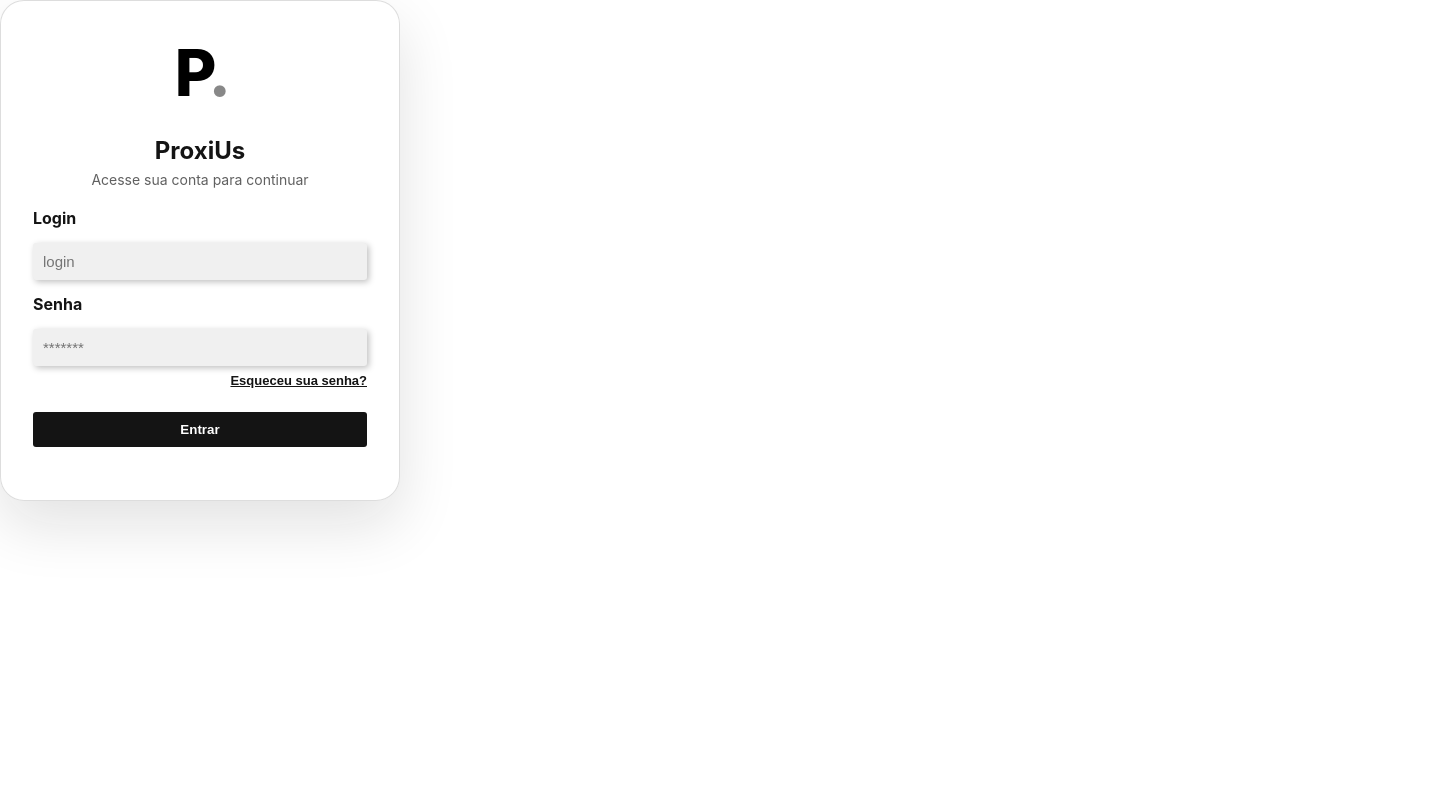
Scenario: allows login without reCAPTCHA on a.localhost
Type "usuario" into the field with placeholder "login".
click(200, 261); type("usuario")  # box [33,243,367,280]
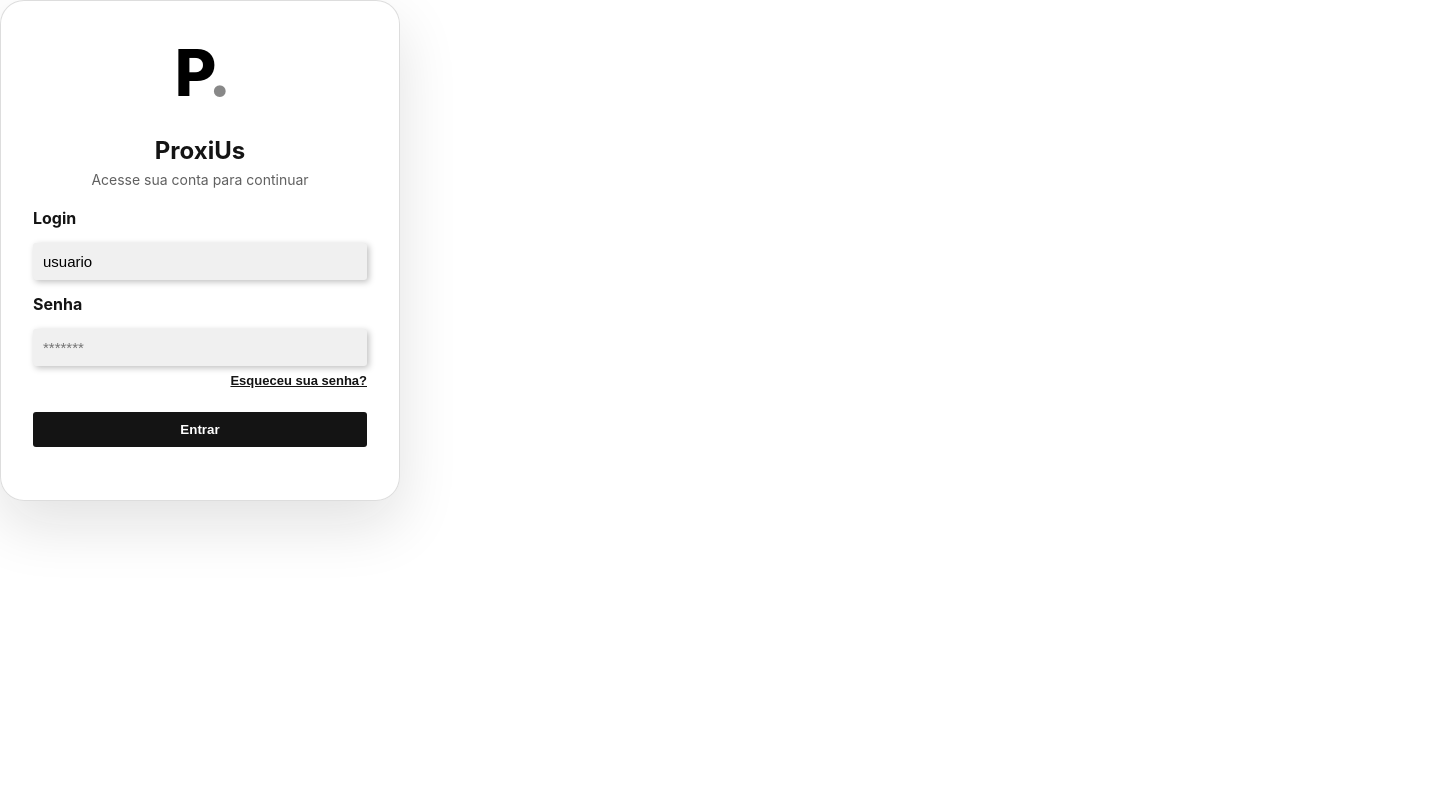
Type "senha" into the password field with placeholder "*******".
click(200, 347); type("senha")  # box [33,329,367,366]
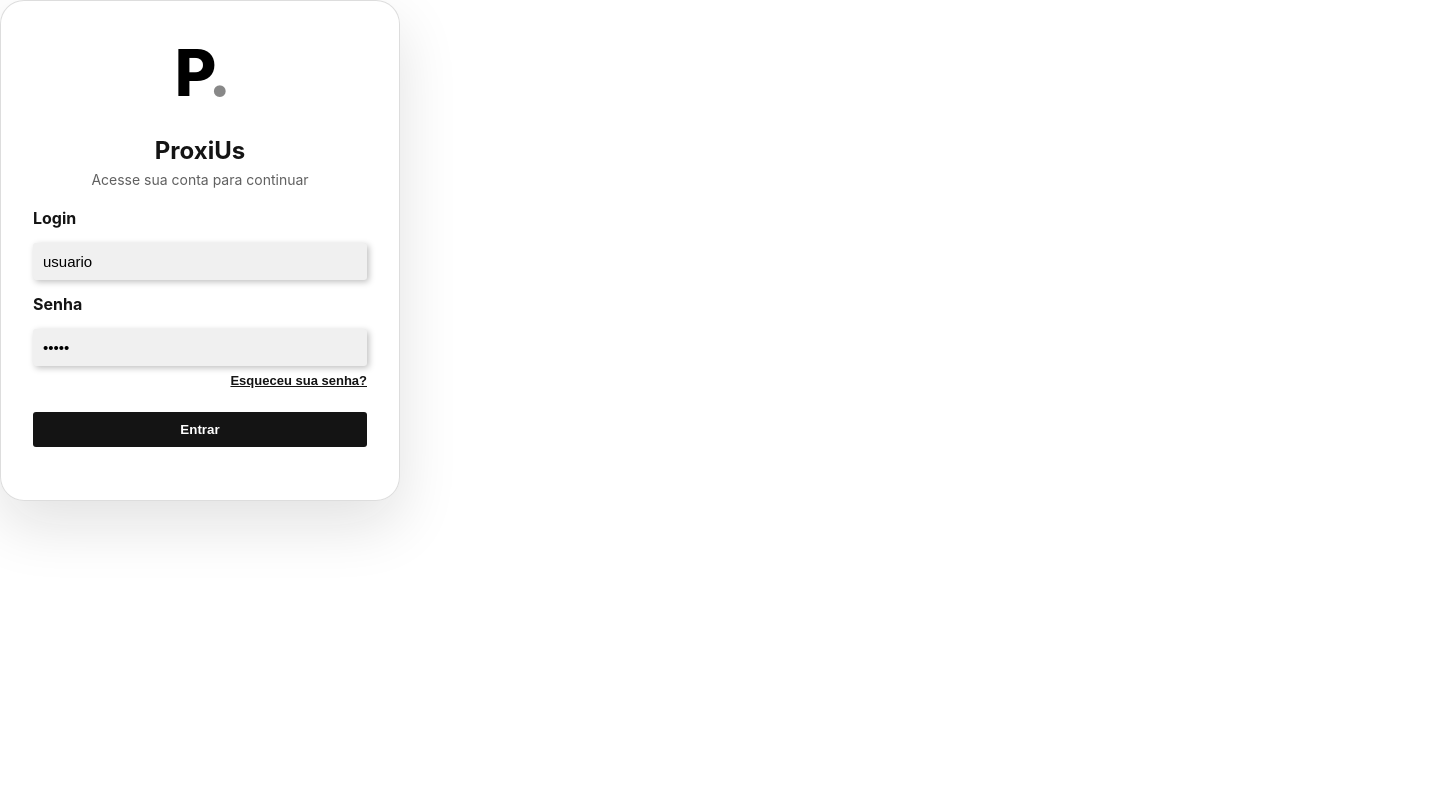
Click the button "Entrar".
click(200, 429)  # box [33,412,367,446]
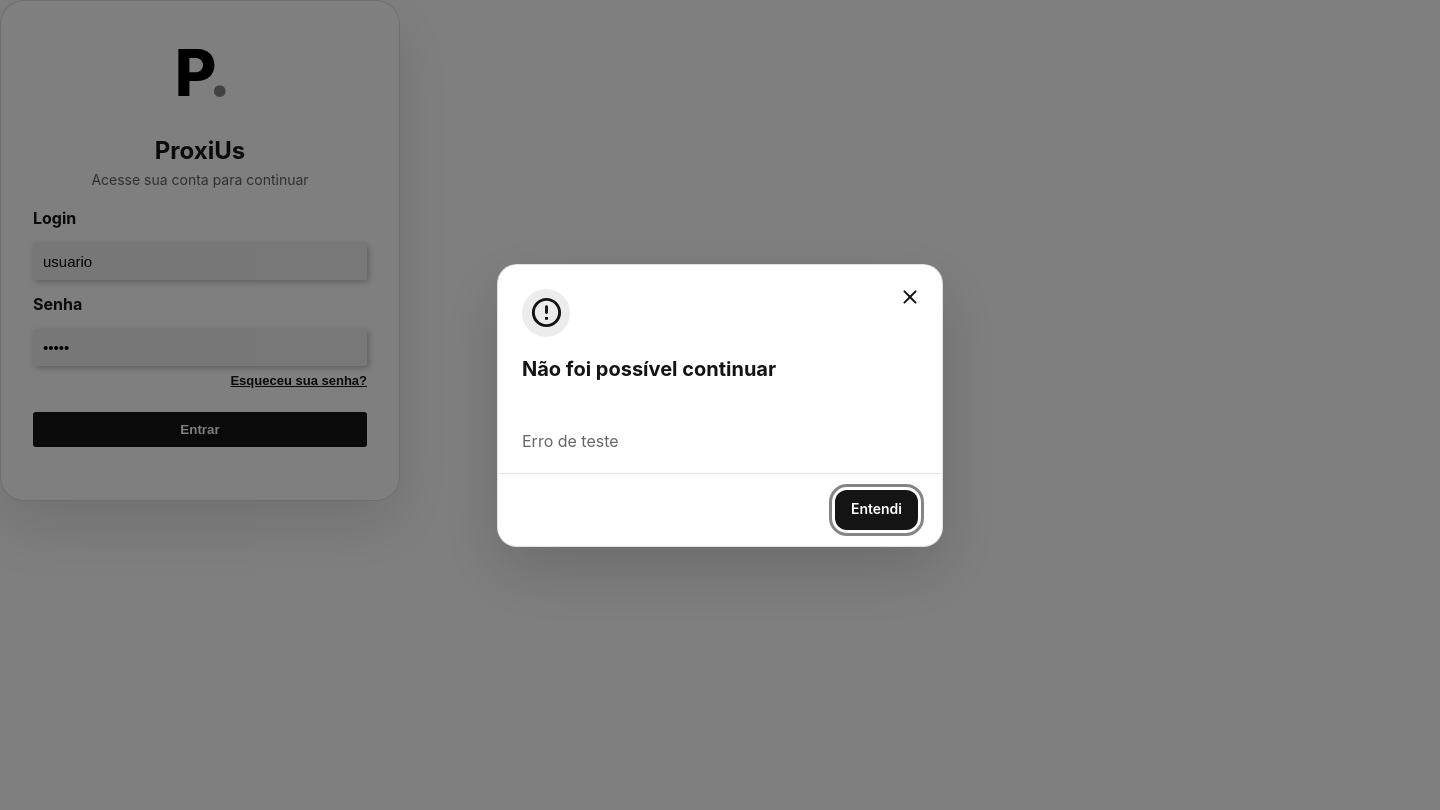
Expected: the dialog shows "Erro de teste", [522,430,619,450]
